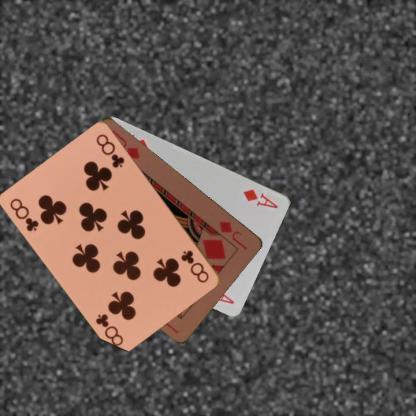8c: (178, 247, 211, 284), (8, 195, 40, 233)
Ad: (240, 186, 280, 210)
Jd: (217, 218, 249, 252)
